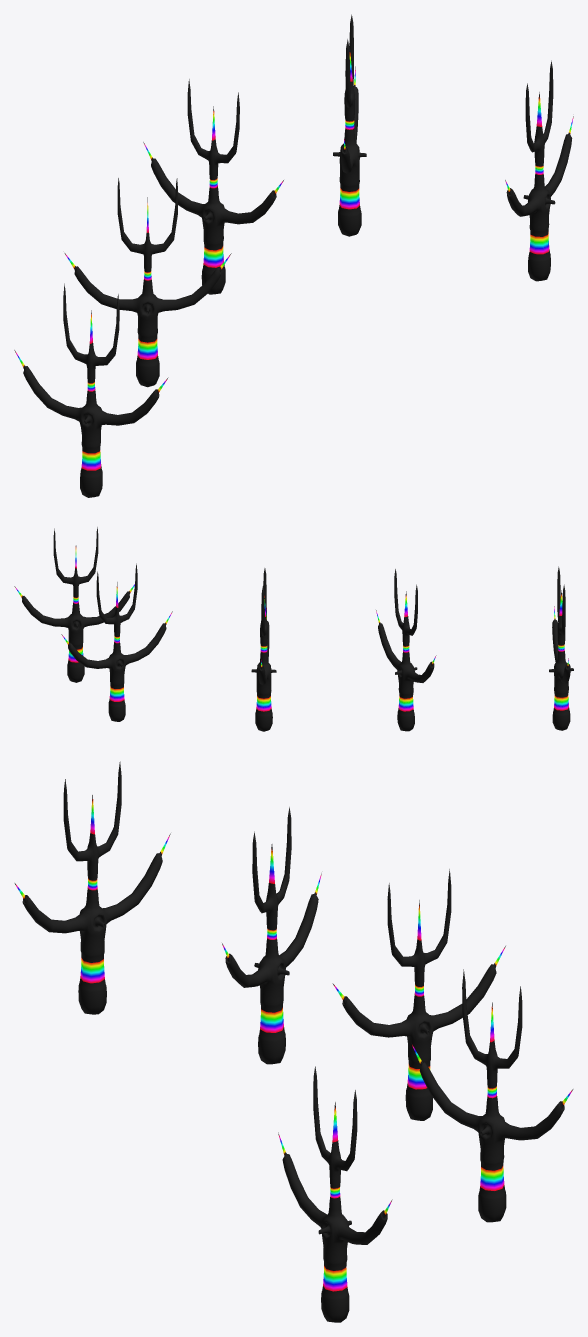
The model's file is xenosands-monuments.glb.
3 renders of one model, top to bottom at view 1: azimuth 30°, elevation 25°; view 2: azimuth 150°, elevation 25°; view 3: azimuth 270°, elevation 25°, orthographic. The views are drawn at different scales.
Visible parts, largest first — view 1: Monument.003, Monument.002, Monument.004, Monument.001, Monument; view 2: Monument, Monument.001, Monument.003, Monument.002, Monument.004; view 3: Monument, Monument.002, Monument.004, Monument.001, Monument.003.
Boxes of the visible parts, x1,y1,x2,y2 form: Monument.003: (64, 178, 231, 387); Monument.002: (14, 283, 168, 497); Monument.004: (143, 79, 283, 294); Monument.001: (505, 60, 573, 281); Monument: (333, 14, 366, 236); Monument: (61, 563, 172, 721); Monument.001: (14, 527, 134, 682); Monument.003: (376, 569, 436, 731); Monument.002: (549, 566, 573, 730); Monument.004: (251, 568, 276, 731); Monument: (411, 969, 573, 1222); Monument.002: (14, 761, 170, 1014); Monument.004: (332, 869, 505, 1120); Monument.001: (278, 1066, 392, 1322); Monument.003: (222, 807, 321, 1064).
Size of the model in its own units: 23.96 by 8.63 by 15.16.
Materials: 2 (1 with a texture image).
